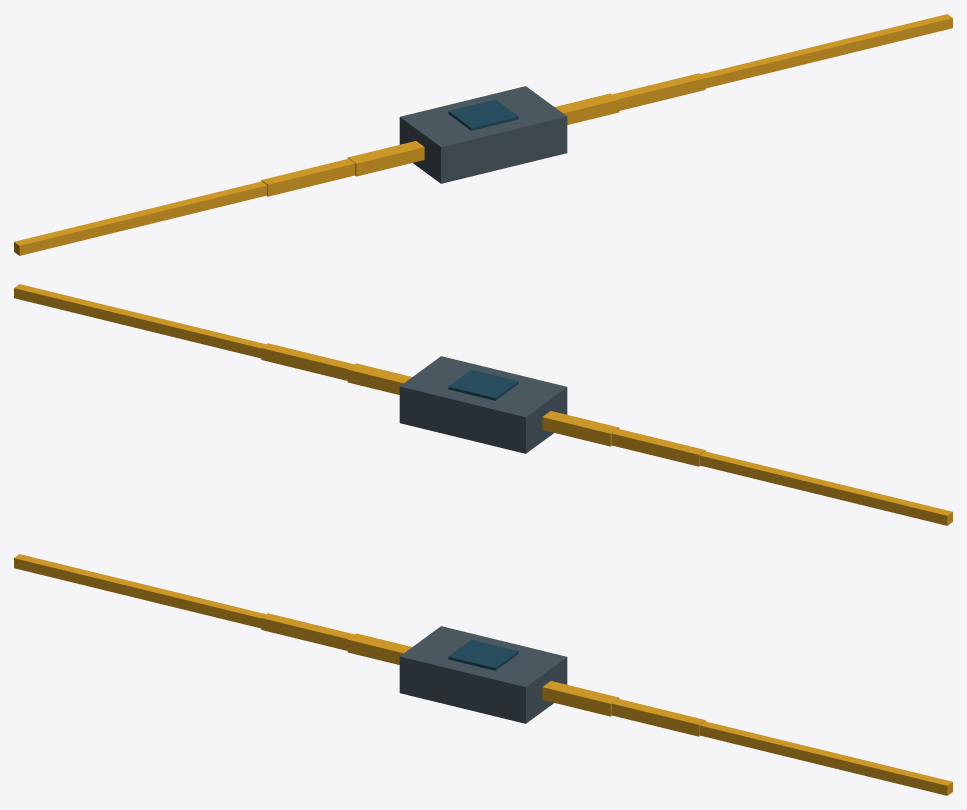
File: sts_guam_body.dae
3 views of the same model, one above another, from view 1: azimuth 30°, elevation 25°; view 2: azimuth 150°, elevation 25°; view 3: azimuth 330°, elevation 25° (orthographic).
Visible parts, largest first — view 1: machine_house, boom_lower_left, portal_leg_left_land, top_girder_left, operator_cabin; view 2: machine_house, boom_lower_left, portal_leg_left_land, top_girder_left, operator_cabin; view 3: machine_house, boom_lower_left, portal_leg_left_land, top_girder_left, operator_cabin.
Boxes of the visible parts, left/top/right/bottom form: machine_house: left=399, top=86, right=567, bottom=183; boom_lower_left: left=14, top=14, right=952, bottom=255; portal_leg_left_land: left=261, top=73, right=705, bottom=196; top_girder_left: left=347, top=93, right=619, bottom=176; operator_cabin: left=448, top=99, right=518, bottom=130; machine_house: left=399, top=356, right=567, bottom=453; boom_lower_left: left=14, top=284, right=952, bottom=525; portal_leg_left_land: left=261, top=343, right=705, bottom=466; top_girder_left: left=347, top=363, right=619, bottom=446; operator_cabin: left=448, top=369, right=518, bottom=400; machine_house: left=399, top=626, right=567, bottom=723; boom_lower_left: left=14, top=554, right=952, bottom=795; portal_leg_left_land: left=261, top=613, right=705, bottom=736; top_girder_left: left=347, top=633, right=619, bottom=716; operator_cabin: left=448, top=639, right=518, bottom=670.
Size of the model in its own units: 53.28 by 4.1 by 2.3.
